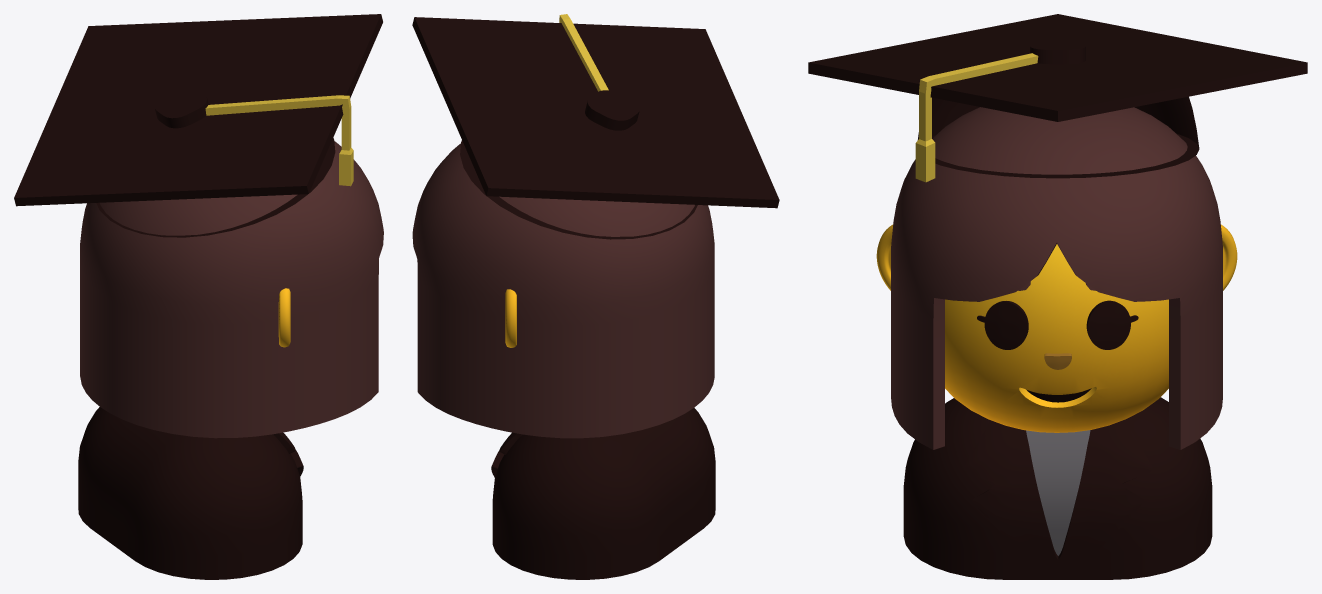
File: Woman Student.gltf
3 views of the same model, side by side, from view 1: azimuth 30°, elevation 25°; view 2: azimuth 150°, elevation 25°; view 3: azimuth 270°, elevation 25° (orthographic). The views are drawn at different scales.
Parts seen in each view (by area): view 1: Roundcube.080, Circle.564, Sphere.039, Plane.031, Cylinder.072; view 2: Roundcube.080, Circle.564, Sphere.039, Plane.031, Cylinder.072; view 3: Roundcube.080, Circle.564, Sphere.039, Roundcube.079, Circle.563, Circle.560, Plane.031, Cylinder.072.
Boxes of the visible parts, box(x1,y1,x2,y2) form: Roundcube.080: box(80, 141, 383, 438); Circle.564: box(14, 14, 382, 237); Sphere.039: box(78, 407, 302, 579); Plane.031: box(205, 95, 353, 186); Cylinder.072: box(278, 288, 290, 347); Roundcube.080: box(412, 143, 714, 438); Circle.564: box(412, 17, 779, 239); Sphere.039: box(492, 408, 715, 579); Plane.031: box(559, 14, 608, 91); Cylinder.072: box(505, 289, 516, 347); Roundcube.080: box(891, 107, 1222, 449); Circle.564: box(808, 14, 1307, 178); Sphere.039: box(903, 397, 1212, 579); Roundcube.079: box(945, 244, 1168, 432); Circle.563: box(964, 419, 1152, 563); Circle.560: box(984, 300, 1130, 349); Plane.031: box(915, 53, 1038, 182); Cylinder.072: box(876, 224, 1237, 290).
Size of the model in its own units: 2.02 by 2.43 by 2.07.
Materials: 6 (1 with a texture image).
